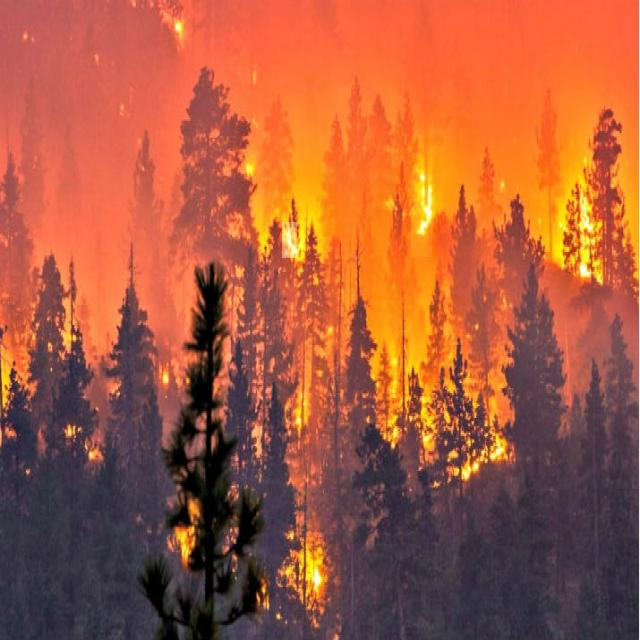Fire: (411, 170, 432, 257), (282, 222, 297, 258)
